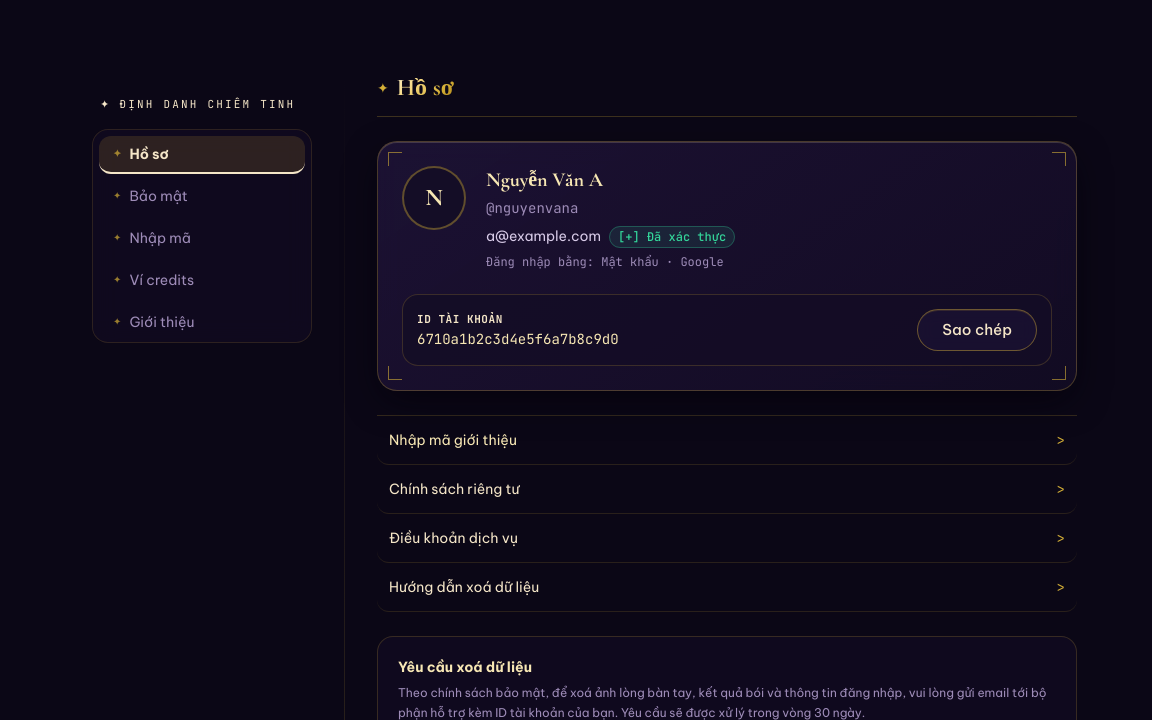
it: Account Page › Hồ sơ Section (#ho-so) › should display Account ID (MongoDB hex 24 chars) with copy button
Expected: the text "6710a1b2c3d4e5f6a7b8c9d0" is shown, [417,329,619,349]
Expected: the text with test id "account-id-display" reads "6710a1b2c3d4e5f6a7b8c9d0", [417,330,619,348]
What coordinates should you click on to do the following:
click the button "Sao chép"
I would click on:
 (977, 330)
Its box is [917,309,1037,351].
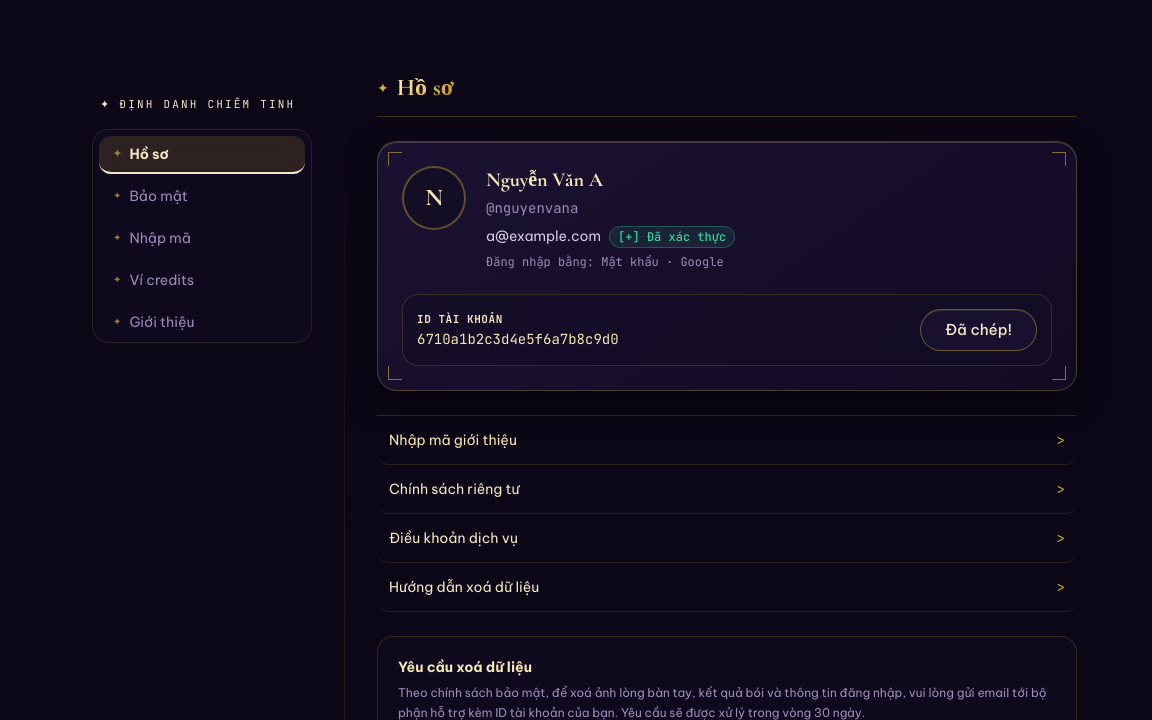
Now the button "Đã chép!" is shown, box [920,309,1037,351]
